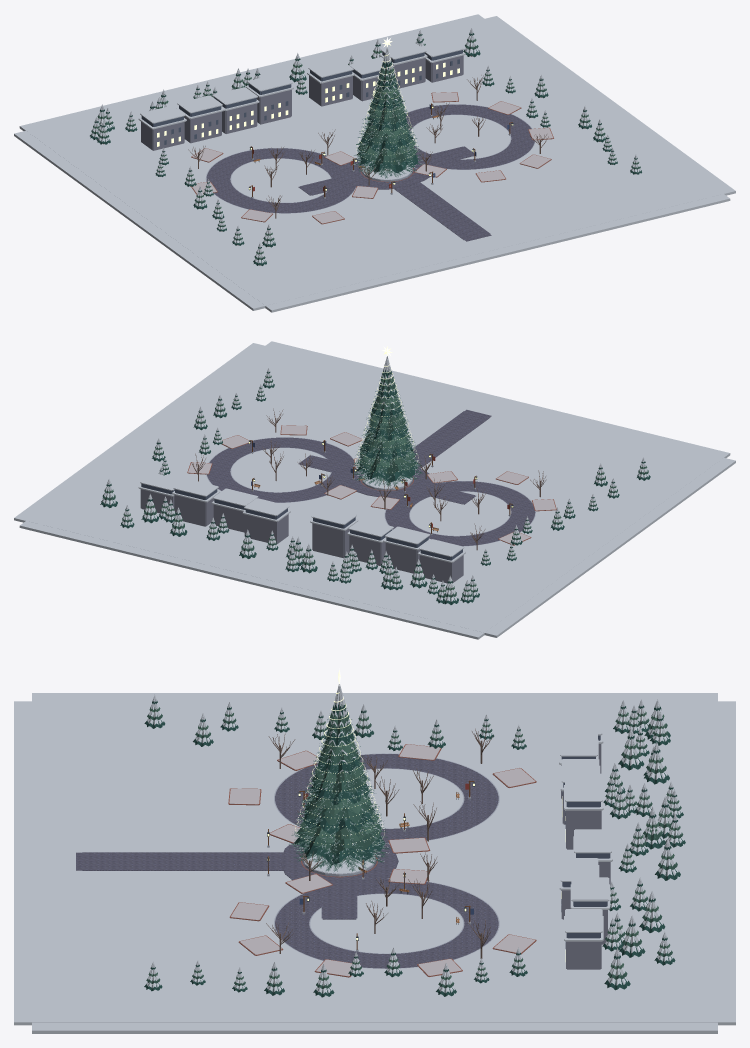
The model's file is courtyard.glb.
3 views of the same model, one above another, from view 1: azimuth 30°, elevation 25°; view 2: azimuth 150°, elevation 25°; view 3: azimuth 270°, elevation 25° (orthographic). The views are drawn at different scales.
Visible parts, largest first — view 1: Campus snowfield, District walking loop, District walking loop.001, Fir • fine winter branchlets, South approach, Circular gathering plaza, Campus • masonry.004, Campus • masonry, Campus • masonry.003, Campus • masonry.002, Campus • masonry.001, Campus • masonry.007 (+5 smaller); view 2: Campus snowfield, District walking loop.001, District walking loop, Fir • fine winter branchlets, South approach, Circular gathering plaza, Campus • masonry, Campus • masonry.004, Campus • masonry.006, Campus • masonry.003, Campus • masonry.002, Campus • masonry.001 (+3 smaller); view 3: Campus snowfield, District walking loop.001, District walking loop, Fir • fine winter branchlets, South approach, Circular gathering plaza, Campus • masonry.007, Plaza walk connector.001, Snow coping.006, Snow coping.002, Snow coping.004, Snow coping (+13 smaller).
Boxes of the visible parts, left/top/right/bottom form: Campus snowfield: left=14, top=14, right=735, bottom=312; District walking loop: left=206, top=148, right=354, bottom=213; District walking loop.001: left=406, top=104, right=534, bottom=169; Fir • fine winter branchlets: left=351, top=62, right=422, bottom=178; South approach: left=394, top=182, right=491, bottom=241; Circular gathering plaza: left=336, top=153, right=437, bottom=189; Campus • masonry.004: left=309, top=76, right=352, bottom=106; Campus • masonry: left=256, top=89, right=291, bottom=124; Campus • masonry.003: left=141, top=122, right=184, bottom=150; Campus • masonry.002: left=184, top=111, right=221, bottom=143; Campus • masonry.001: left=222, top=103, right=257, bottom=133; Campus • masonry.007: left=425, top=55, right=463, bottom=82; Campus snowfield: left=14, top=341, right=735, bottom=639; District walking loop.001: left=207, top=437, right=353, bottom=502; District walking loop: left=385, top=481, right=535, bottom=546; Fir • fine winter branchlets: left=353, top=373, right=422, bottom=487; South approach: left=413, top=409, right=491, bottom=468; Circular gathering plaza: left=336, top=463, right=437, bottom=498; Campus • masonry: left=312, top=523, right=349, bottom=558; Campus • masonry.004: left=244, top=514, right=288, bottom=544; Campus • masonry.006: left=174, top=495, right=214, bottom=526; Campus • masonry.003: left=419, top=555, right=463, bottom=583; Campus • masonry.002: left=385, top=543, right=420, bottom=573; Campus • masonry.001: left=349, top=535, right=385, bottom=565; Campus snowfield: left=14, top=693, right=735, bottom=1033; District walking loop.001: left=275, top=879, right=498, bottom=968; District walking loop: left=275, top=754, right=498, bottom=843; Fir • fine winter branchlets: left=288, top=704, right=391, bottom=872; South approach: left=76, top=852, right=283, bottom=870; Circular gathering plaza: left=280, top=840, right=398, bottom=893; Campus • masonry.007: left=566, top=941, right=601, bottom=969; Plaza walk connector.001: left=321, top=891, right=357, bottom=919; Snow coping.006: left=571, top=877, right=609, bottom=901; Snow coping.002: left=560, top=732, right=597, bottom=756; Snow coping.004: left=574, top=829, right=611, bottom=853; Snow coping: left=565, top=778, right=602, bottom=801.
Size of the model in its own units: 135 by 36.7 by 122.
Materials: 19 (1 with a texture image).
